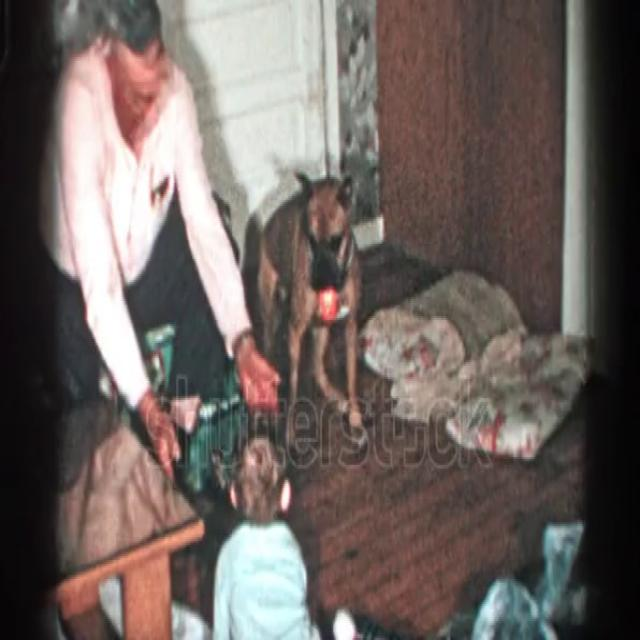normal_animals: (247, 164, 372, 463)
